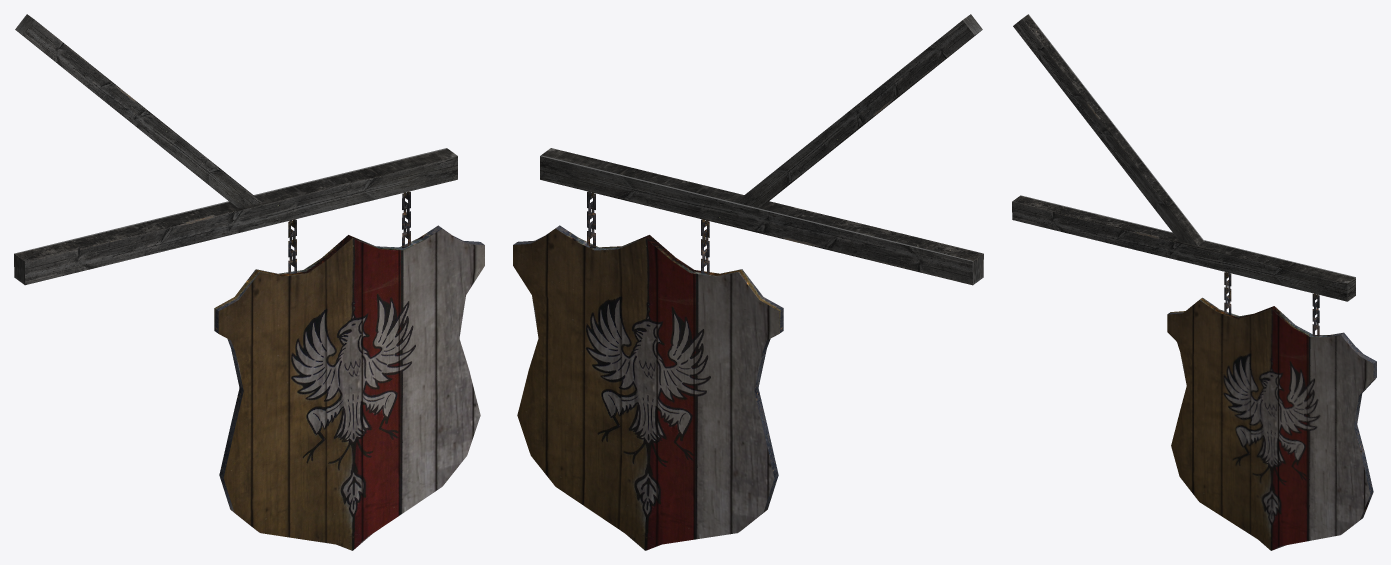
The model's file is emblem03_LOD01.fbx.
3 renders of one model, left to right at view 1: azimuth 30°, elevation 25°; view 2: azimuth 150°, elevation 25°; view 3: azimuth 330°, elevation 25°, orthographic. The views are drawn at different scales.
Visible parts, largest first — view 1: Mesh Object; view 2: Mesh Object; view 3: Mesh Object.
Part boxes in pixels (x1,y1,x2,y2): Mesh Object: [14, 14, 484, 550]; Mesh Object: [513, 14, 983, 550]; Mesh Object: [1012, 14, 1376, 550].
Bounding box in the file's own units: 1.52 × 1.91 × 0.0628.
